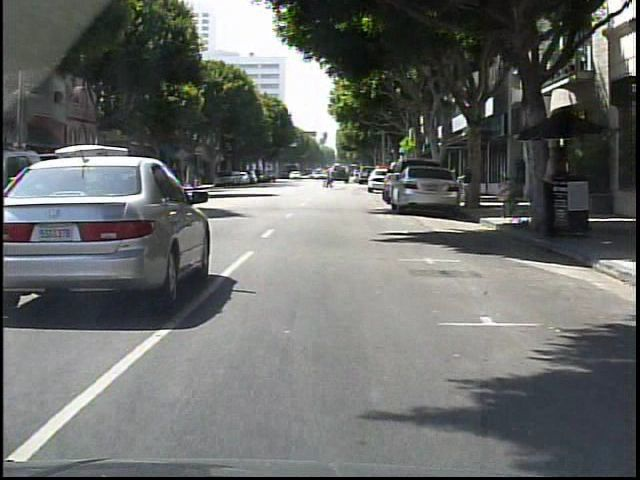person: (541, 144, 572, 231), (321, 167, 334, 189)
